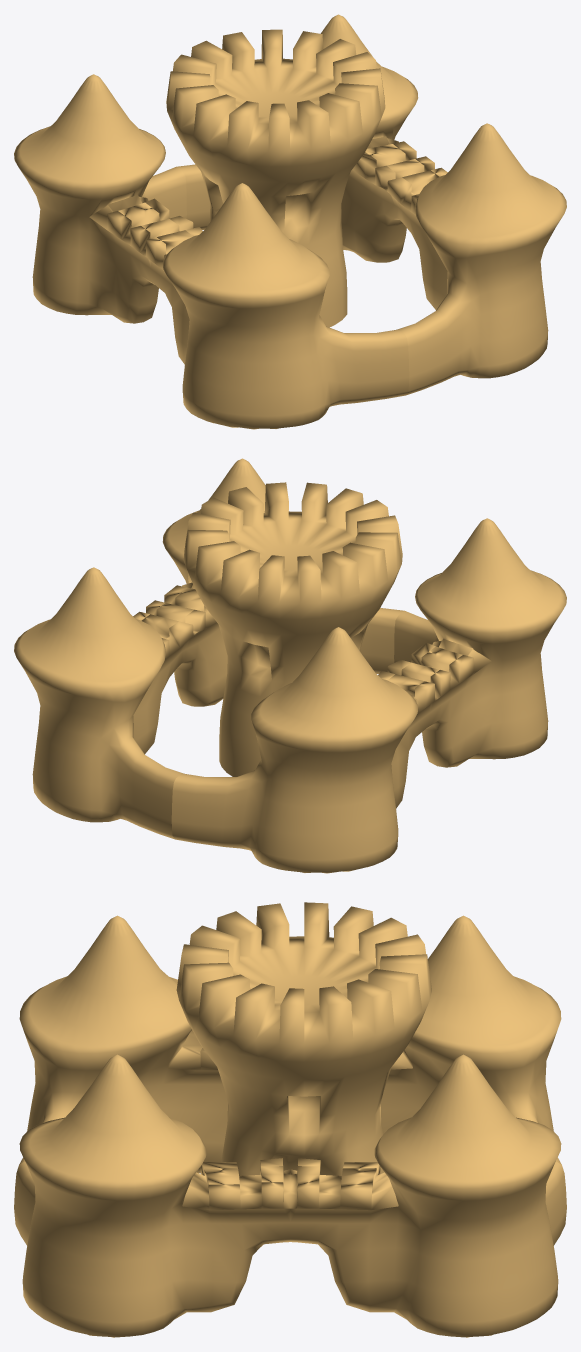
File: sandcastle.fbx
3 views of the same model, one above another, from view 1: azimuth 30°, elevation 25°; view 2: azimuth 150°, elevation 25°; view 3: azimuth 270°, elevation 25° (orthographic). The views are drawn at different scales.
Parts seen in each view (by area): view 1: sandcastle; view 2: sandcastle; view 3: sandcastle.
Boxes of the visible parts, x1=… form: sandcastle: x1=14, y1=14, x2=566, y2=429; sandcastle: x1=14, y1=458, x2=566, y2=873; sandcastle: x1=14, y1=902, x2=566, y2=1337.
Size of the model in its own units: 786 by 482 by 844.
